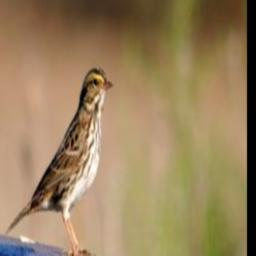Sparrow: (4, 67, 113, 256)
